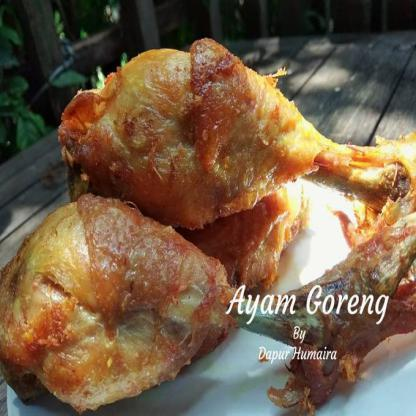ayam_goreng: (0, 202, 415, 413), (59, 37, 415, 234)
